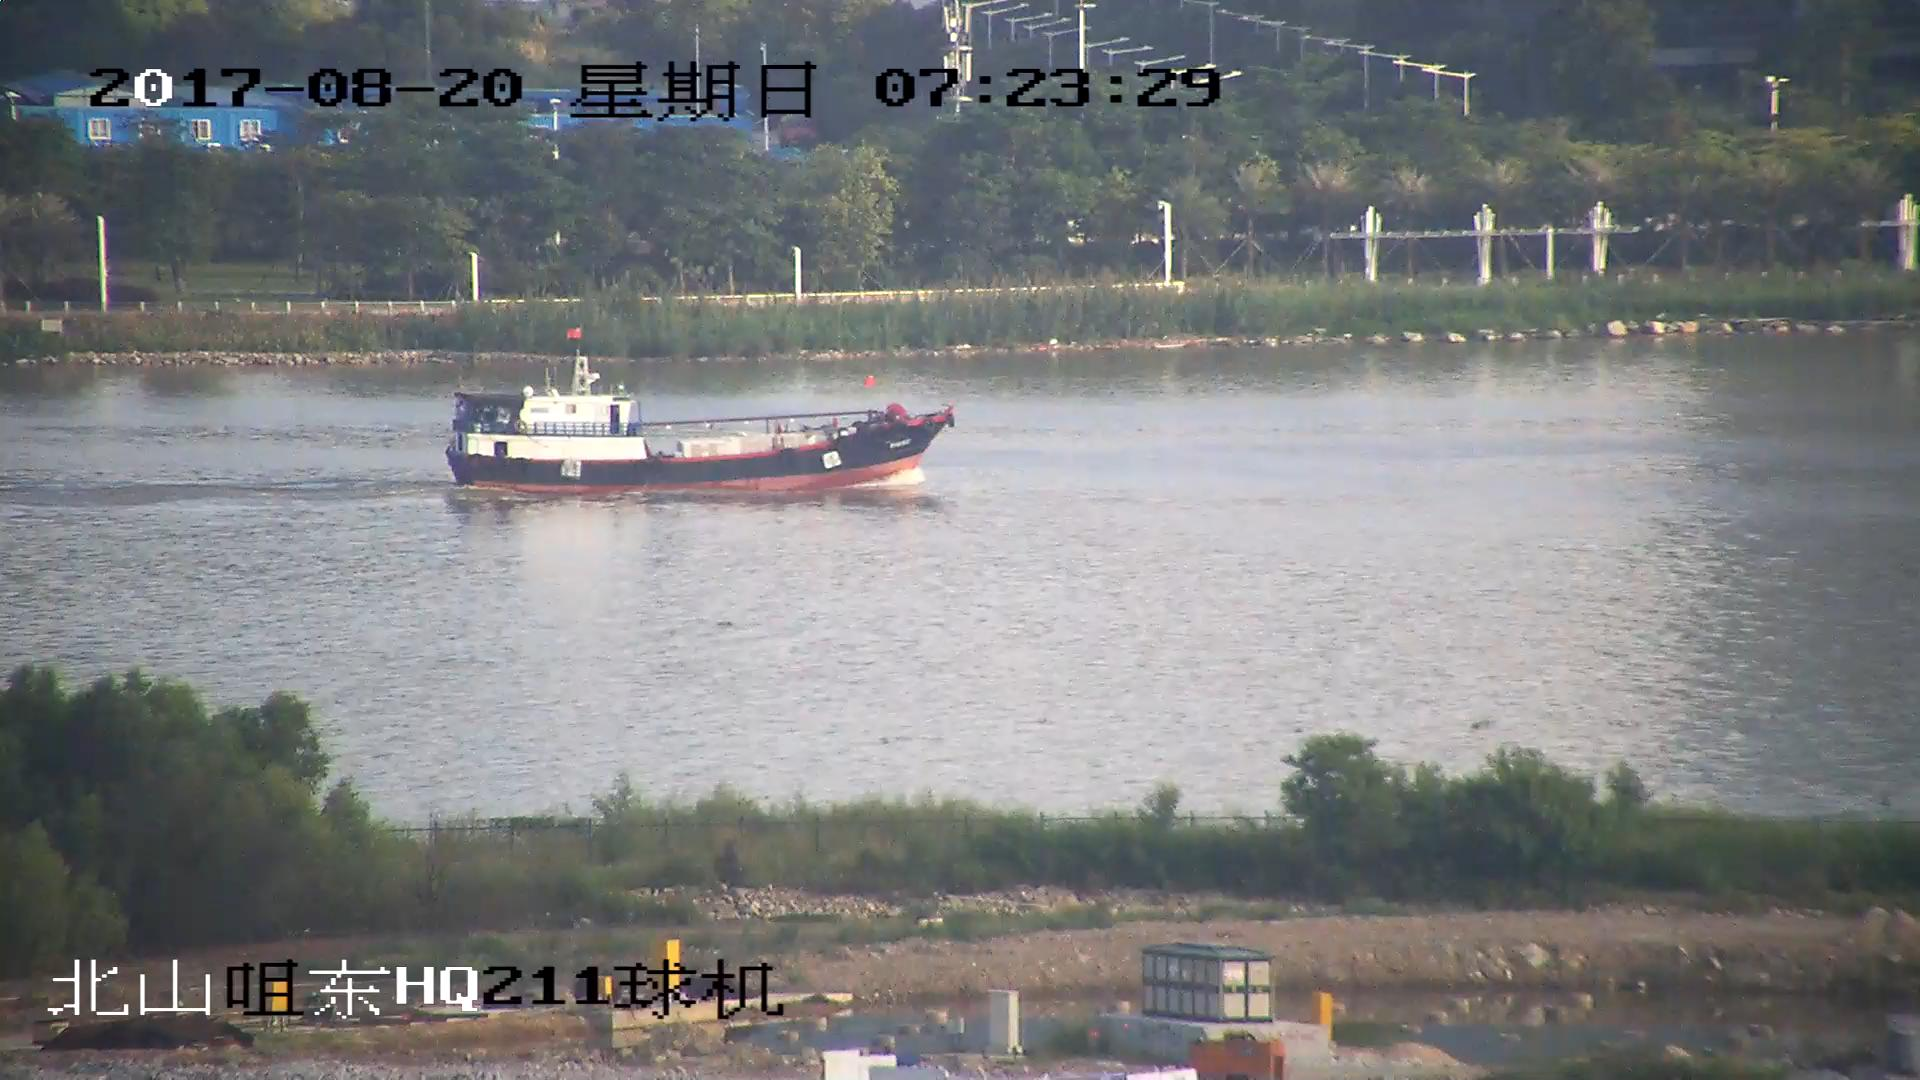fishing boat: (445, 354, 955, 497)
